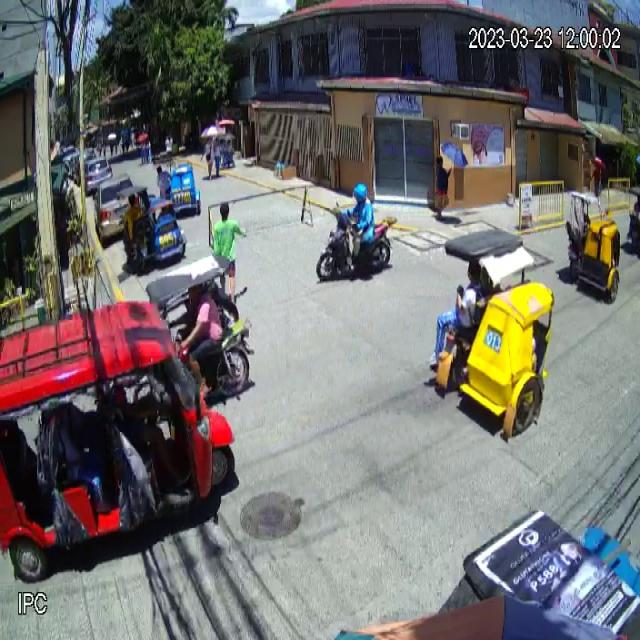Motorcycle: (316, 201, 394, 283)
Tricycle: (431, 229, 555, 436), (565, 191, 621, 306), (116, 185, 188, 274)
